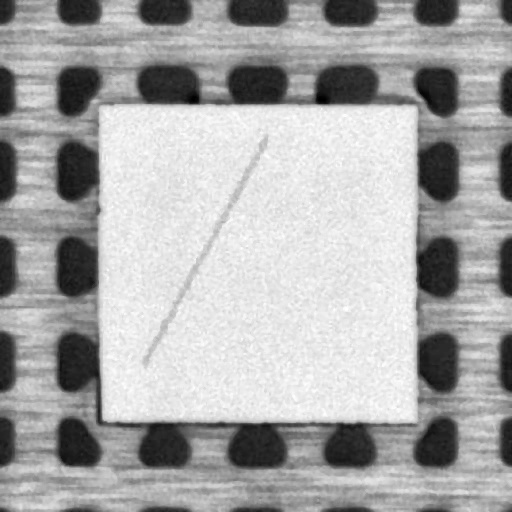DIE_CRACK: (142, 136, 266, 364)
